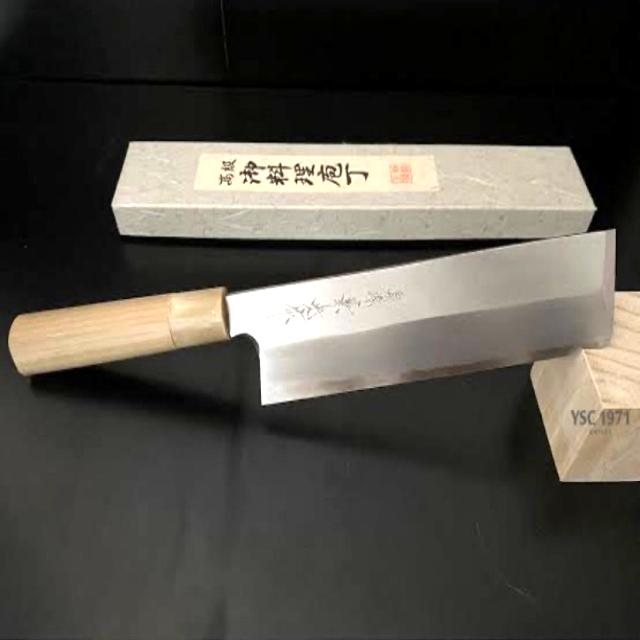knife: (11, 160, 622, 466)
